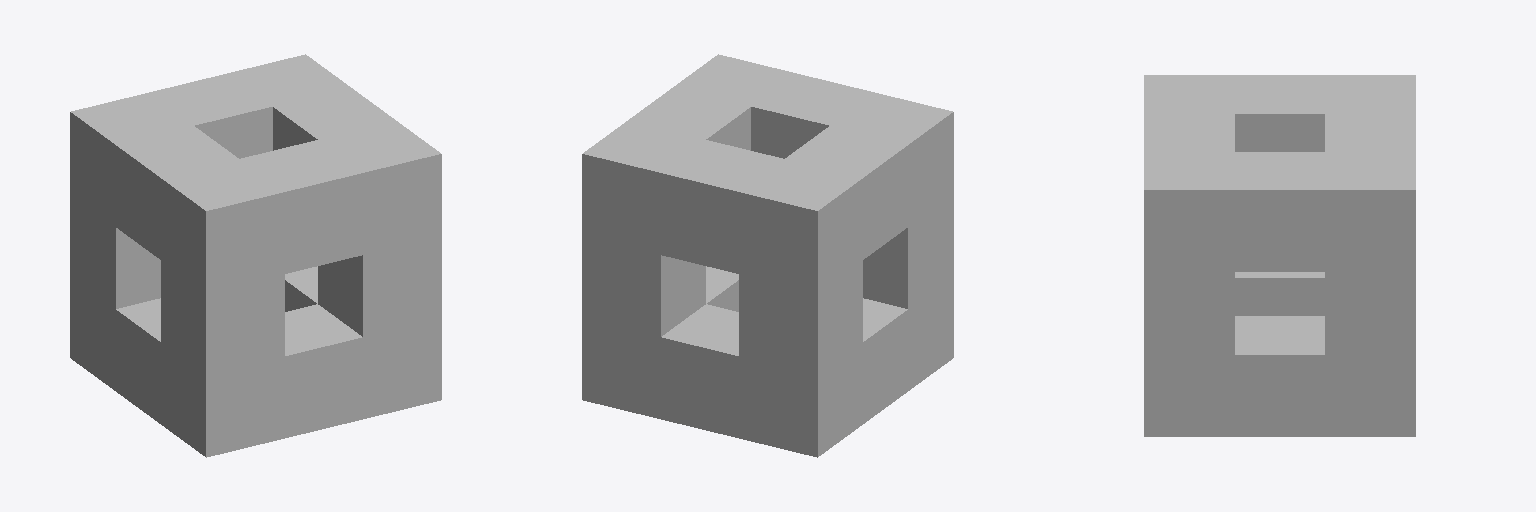
File: emerald_block1.obj
3 renders of one model, left to right at view 1: azimuth 30°, elevation 25°; view 2: azimuth 150°, elevation 25°; view 3: azimuth 270°, elevation 25°, orthographic.
Visible parts, largest first — view 1: Cube.020_Cube.022; view 2: Cube.020_Cube.022; view 3: Cube.020_Cube.022.
Boxes of the visible parts, x1,y1,x2,y2 form: Cube.020_Cube.022: [70, 54, 441, 457]; Cube.020_Cube.022: [582, 54, 953, 457]; Cube.020_Cube.022: [1144, 75, 1415, 436].
Bounding box in the file's own units: 1 × 1 × 1.